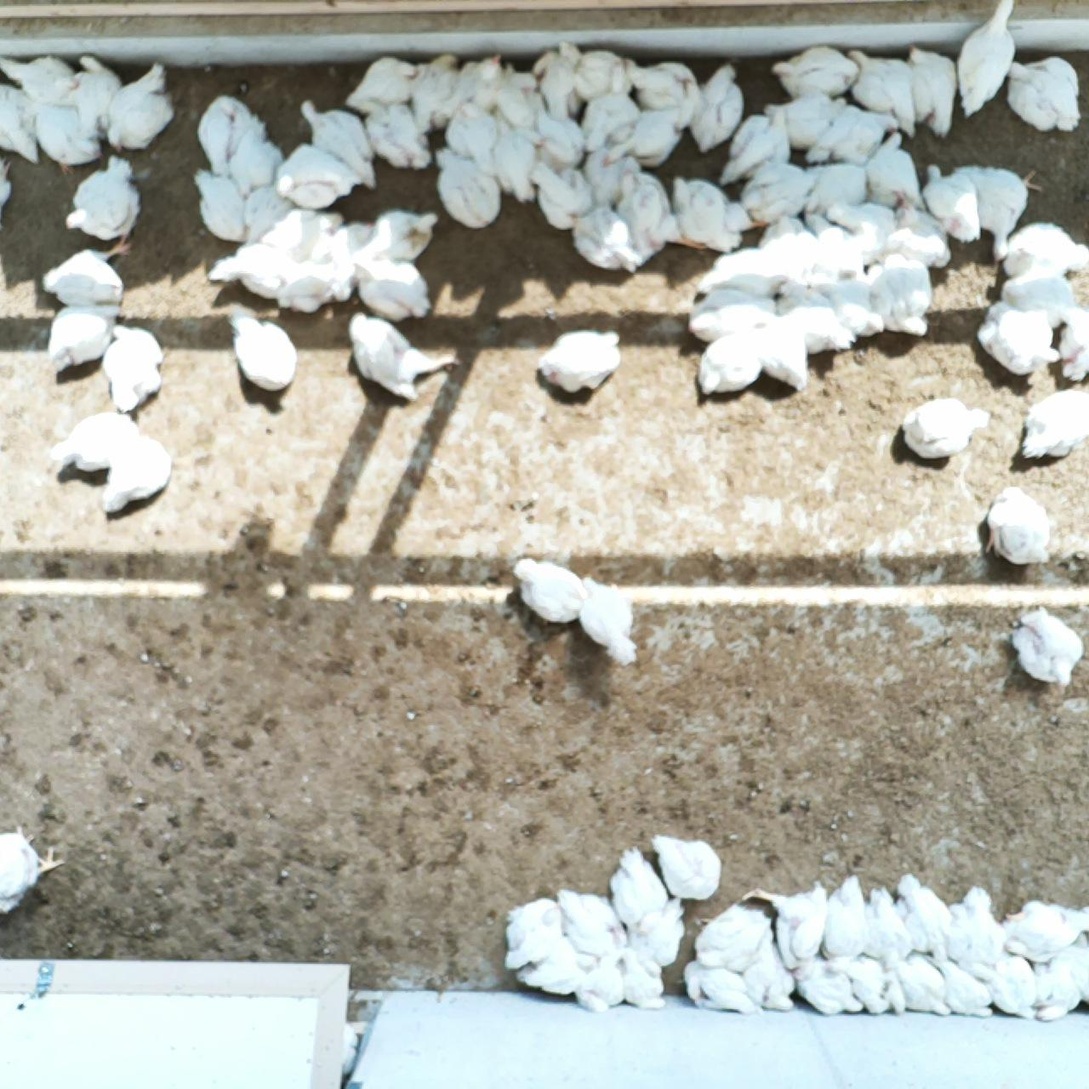chicken: (345, 309, 462, 406), (603, 161, 705, 263), (955, 161, 1038, 269), (662, 169, 764, 254), (738, 875, 828, 971), (62, 152, 147, 245), (567, 567, 641, 672), (300, 99, 381, 192), (957, 0, 1023, 114), (38, 238, 131, 314), (99, 61, 176, 152), (1007, 600, 1086, 688), (842, 45, 915, 139), (981, 483, 1058, 572), (0, 825, 66, 928), (100, 429, 175, 518), (805, 98, 901, 167), (538, 322, 624, 399), (775, 283, 861, 360), (226, 306, 298, 397), (978, 298, 1063, 374), (45, 303, 123, 385), (941, 884, 1005, 982), (190, 92, 262, 179), (735, 159, 823, 230), (902, 394, 992, 463), (829, 951, 914, 1024), (1005, 54, 1082, 134), (358, 96, 435, 174), (207, 241, 307, 301), (565, 203, 646, 277), (688, 899, 772, 969), (869, 248, 934, 338), (275, 141, 361, 209), (435, 147, 503, 233), (345, 255, 433, 321), (687, 58, 746, 156), (900, 47, 961, 141), (719, 106, 791, 185), (47, 408, 135, 472), (1001, 220, 1089, 284), (553, 882, 627, 958), (513, 556, 589, 630), (882, 191, 949, 273), (771, 43, 861, 104), (102, 324, 163, 413), (222, 112, 285, 198), (526, 87, 588, 174), (601, 108, 689, 169), (1002, 897, 1082, 964), (765, 91, 850, 154), (824, 197, 898, 269), (529, 158, 599, 234), (513, 935, 600, 996), (862, 127, 919, 220), (855, 884, 917, 969), (1017, 388, 1089, 461), (820, 872, 877, 963), (576, 135, 640, 216), (654, 830, 724, 904), (688, 285, 774, 345), (748, 316, 813, 395), (606, 845, 665, 932), (891, 874, 947, 965), (973, 949, 1039, 1026), (254, 204, 343, 261), (33, 97, 104, 168), (237, 177, 305, 251), (781, 952, 861, 1014), (675, 958, 759, 1017), (998, 265, 1074, 330), (66, 52, 121, 141), (493, 113, 545, 207), (699, 244, 786, 300), (271, 259, 356, 316), (622, 53, 700, 115), (690, 335, 759, 405), (927, 942, 992, 1016), (0, 49, 85, 105), (921, 167, 982, 245), (189, 166, 247, 248), (529, 40, 587, 120), (407, 48, 460, 133), (757, 214, 824, 281), (497, 892, 556, 968), (359, 208, 436, 266), (737, 942, 796, 1017), (347, 51, 420, 111), (801, 208, 864, 277), (492, 59, 547, 137), (438, 97, 496, 170), (831, 271, 890, 342), (627, 894, 689, 961), (890, 954, 948, 1023), (578, 88, 634, 157), (303, 217, 382, 265), (571, 46, 633, 107), (810, 159, 871, 221), (1026, 951, 1077, 1025), (454, 51, 507, 118), (577, 949, 630, 1012), (0, 85, 38, 171), (620, 946, 669, 1011), (1054, 304, 1089, 385), (1054, 927, 1089, 1007), (0, 155, 14, 208)
